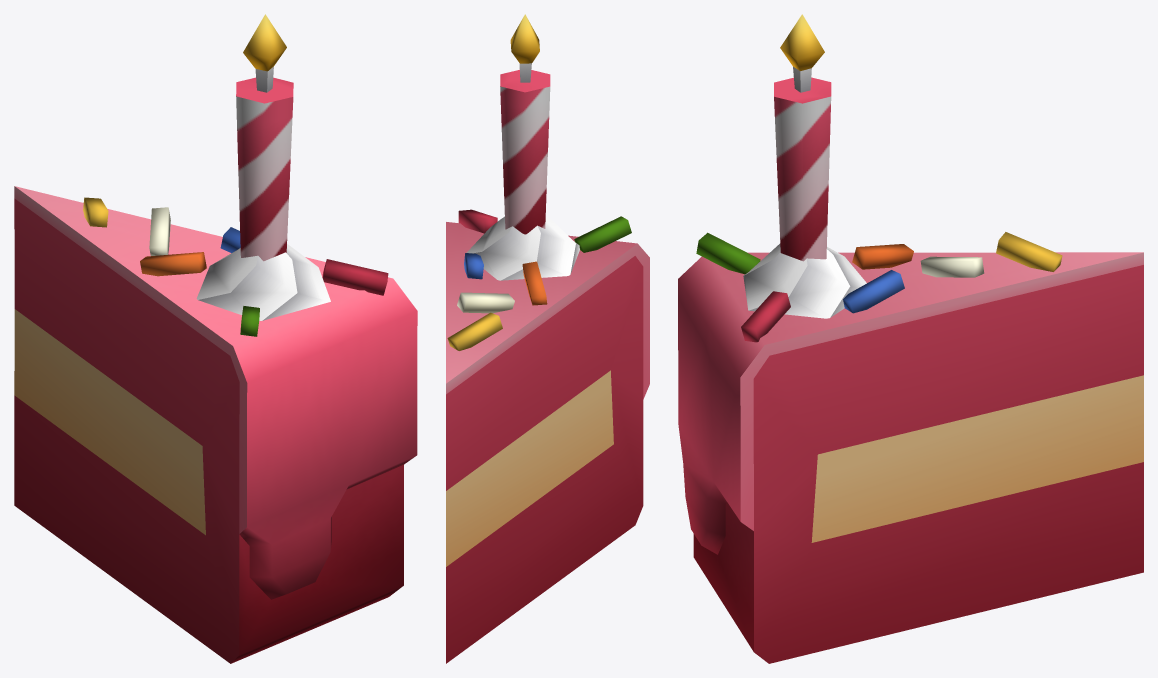
File: m_BirthdayCake02_Slice02.fbx
3 views of the same model, side by side, from view 1: azimuth 30°, elevation 25°; view 2: azimuth 150°, elevation 25°; view 3: azimuth 270°, elevation 25° (orthographic). The views are drawn at different scales.
Parts seen in each view (by area): view 1: m_BirthdayCake02_Slice02; view 2: m_BirthdayCake02_Slice02; view 3: m_BirthdayCake02_Slice02.
Boxes of the visible parts, x1=… form: m_BirthdayCake02_Slice02: x1=14, y1=14, x2=417, y2=663; m_BirthdayCake02_Slice02: x1=446, y1=14, x2=649, y2=663; m_BirthdayCake02_Slice02: x1=678, y1=14, x2=1143, y2=663.
Bounding box in the file's own units: 7.24 × 20.5 × 14.48.
